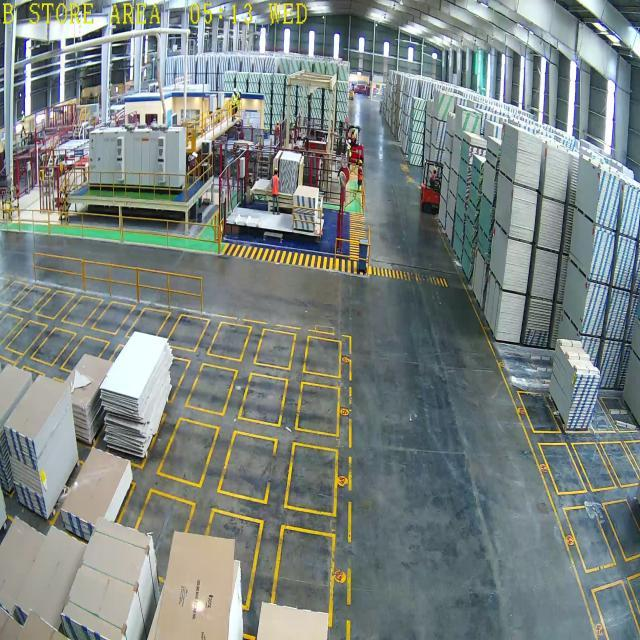material_stack: (561, 342, 593, 424)
